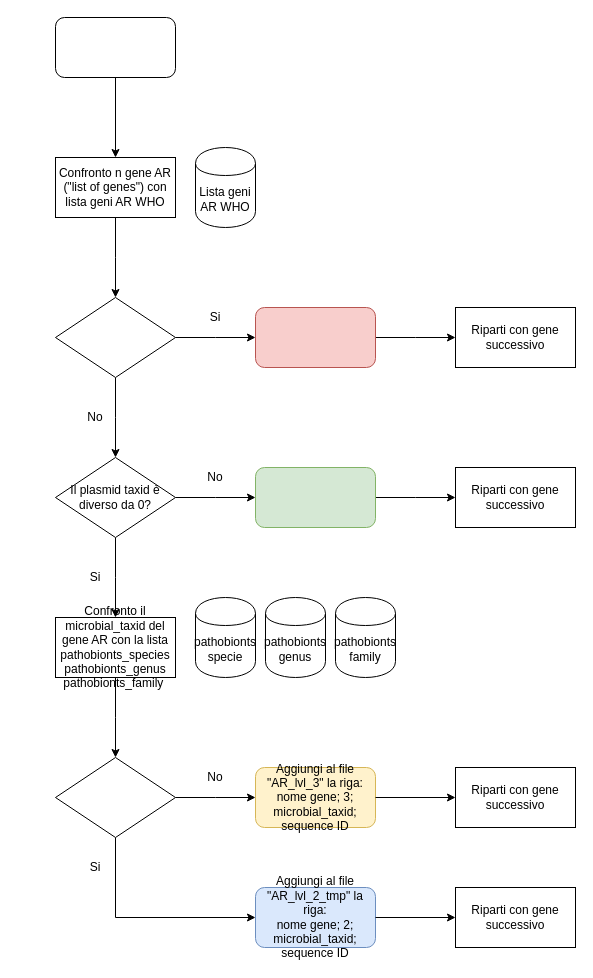
The diagram is 593 pixels wide and 978 high, and some of its shapes have lost their labels. Here are the shapes that lost their labels. From the top down, the centre of each, then its label:
pixel 115 47: INPUT=classification_genes_300_filr
pixel 115 337: Il gene AR fa parte della lista dei geni AR WHO ?
pixel 315 337: Aggiungi al file "AR_lvl_1" la riga: nome gene; 1; microbial_taxid; seqeunce ID
pixel 315 497: Aggiungi al file "AR_lvl_4" la riga: nome gene; 4; microbial_taxid; sequence ID
pixel 115 797: Il microbial_taxid del gene AR è presente in una delle 3 liste pathobionts?
